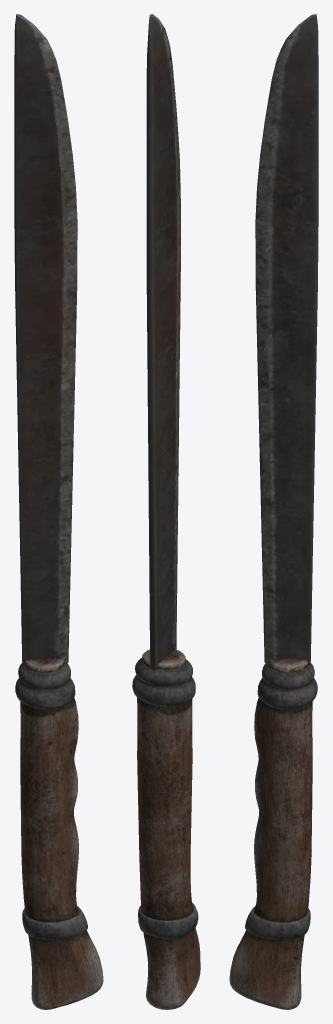
File: machete.glb
3 views of the same model, side by side, from view 1: azimuth 90°, elevation 25°; view 2: azimuth 150°, elevation 25°; view 3: azimuth 270°, elevation 25° (orthographic).
Parts seen in each view (by area): view 1: machete; view 2: machete; view 3: machete.
Boxes of the visible parts, x1=… form: machete: x1=14, y1=14, x2=103, y2=1009; machete: x1=132, y1=14, x2=200, y2=1009; machete: x1=229, y1=14, x2=318, y2=1009.
Size of the model in its own units: 0.0437 by 0.745 by 0.0607.
1 material, 1 textured.
